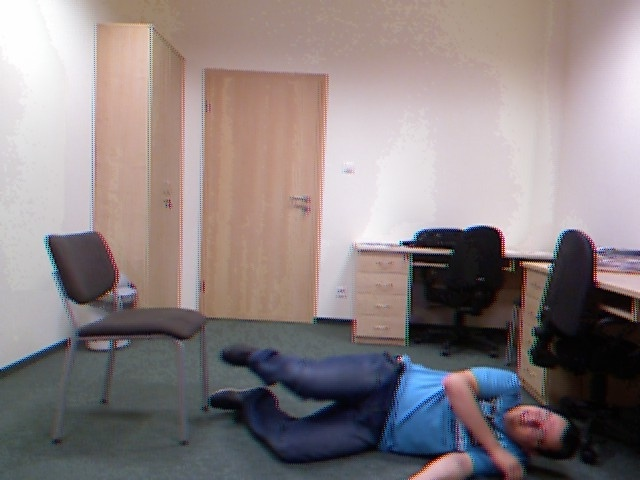fall: (199, 332, 583, 478)
